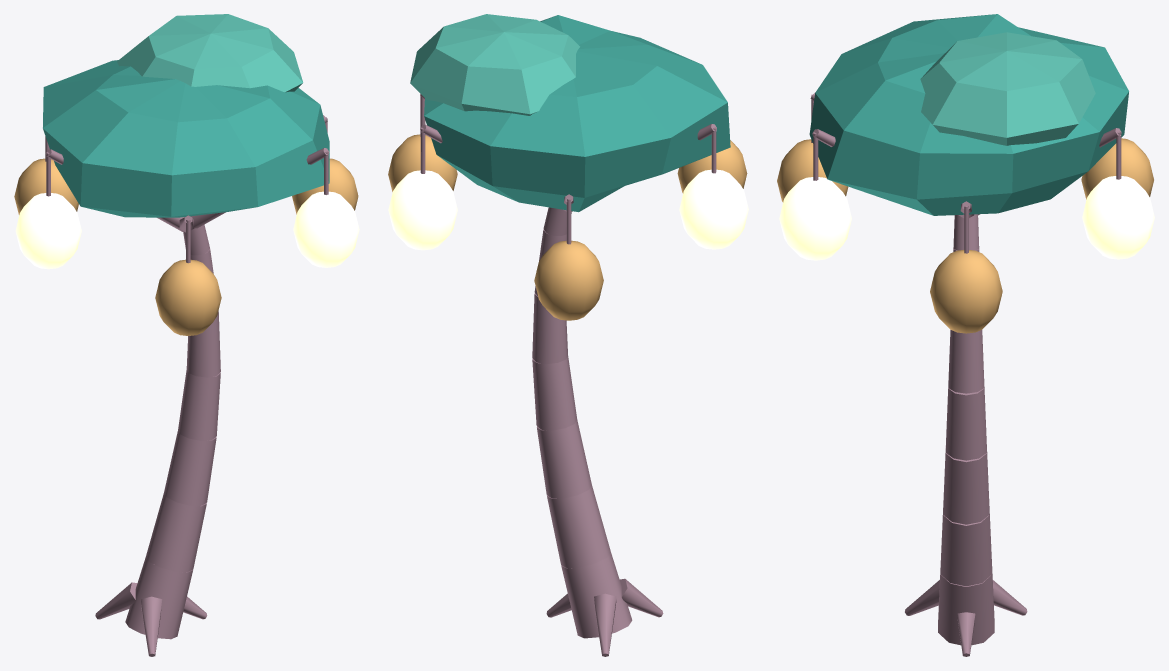
The model's file is tree_lantern.glb.
The picture shows the model from 3 angles, left to right: view 1: azimuth 30°, elevation 25°; view 2: azimuth 150°, elevation 25°; view 3: azimuth 270°, elevation 25°; orthographic projection. The views are drawn at different scales.
Parts seen in each view (by area): view 1: TreeLantern.001; view 2: TreeLantern.001; view 3: TreeLantern.001.
Part boxes in pixels (x1,y1,x2,y2): TreeLantern.001: (14, 14, 359, 656); TreeLantern.001: (388, 14, 748, 656); TreeLantern.001: (777, 14, 1154, 656).
Bounding box in the file's own units: 3.14 × 5.11 × 2.8.
